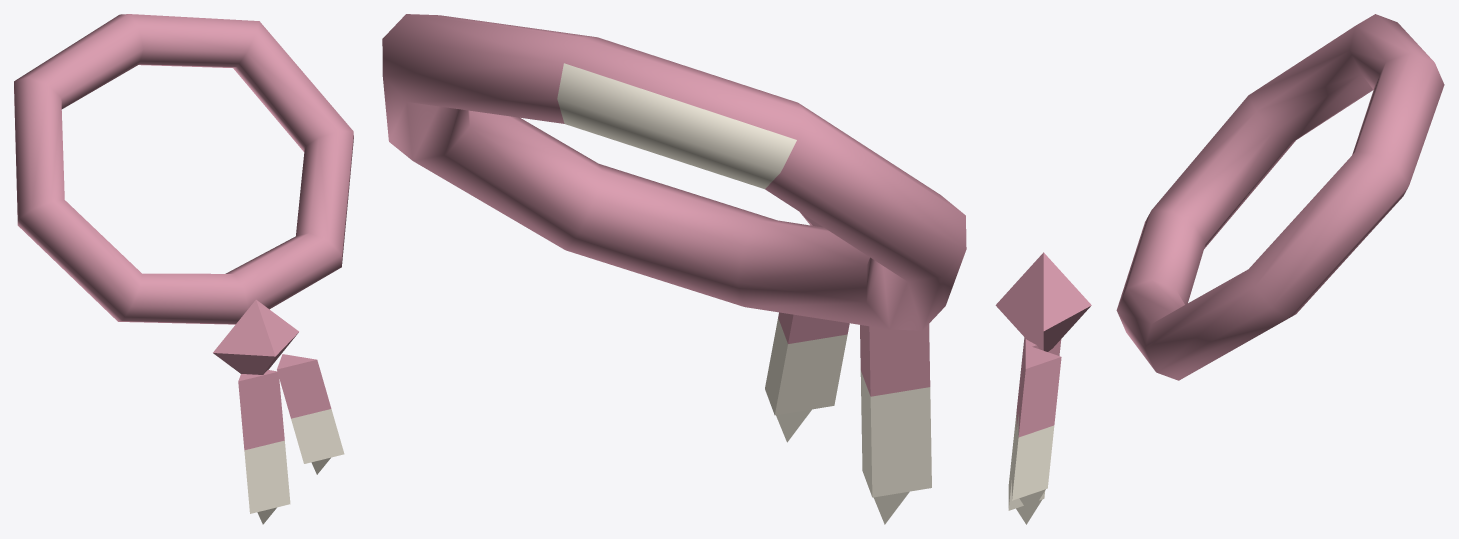
Rendered from world_elder_scarf.fbx.
3 views of the same model, side by side, from view 1: azimuth 30°, elevation 25°; view 2: azimuth 150°, elevation 25°; view 3: azimuth 270°, elevation 25° (orthographic). The views are drawn at different scales.
Parts seen in each view (by area): view 1: world_elder_scarf_mesh; view 2: world_elder_scarf_mesh; view 3: world_elder_scarf_mesh.
Boxes of the visible parts, <box> form: world_elder_scarf_mesh: <box>14,14,353,524</box>; world_elder_scarf_mesh: <box>382,14,966,524</box>; world_elder_scarf_mesh: <box>995,14,1444,524</box>.
Bounding box in the file's own units: 0.6975 × 0.7771 × 0.6521.
